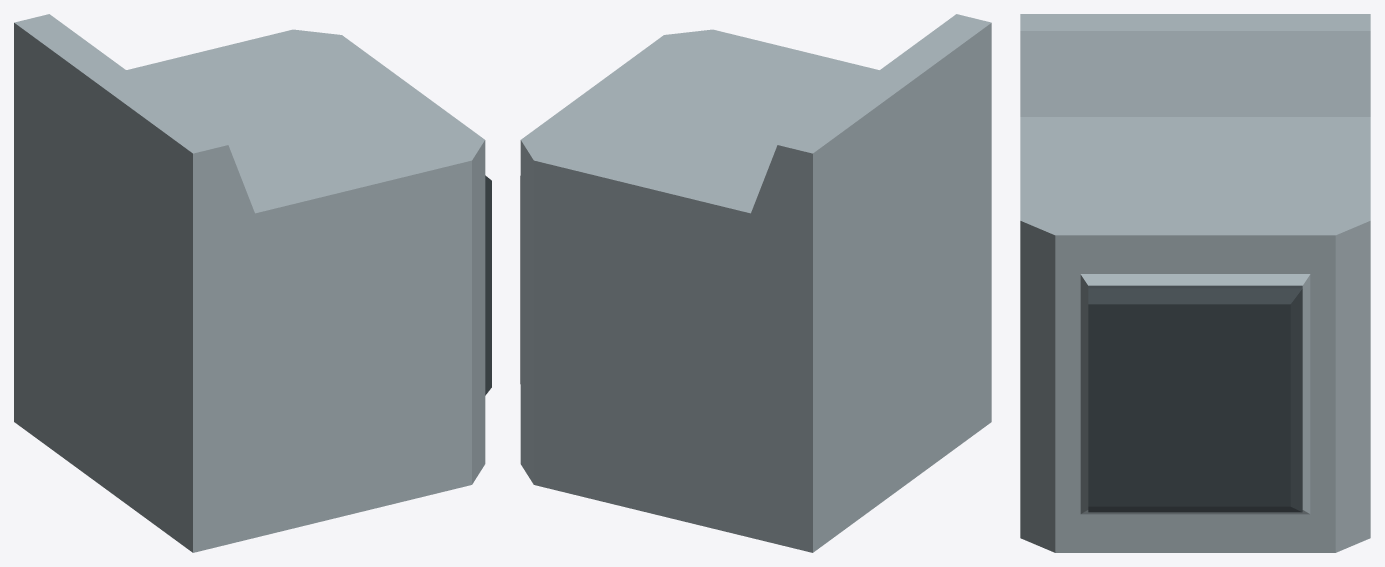
File: Dryer.fbx
3 renders of one model, left to right at view 1: azimuth 30°, elevation 25°; view 2: azimuth 150°, elevation 25°; view 3: azimuth 270°, elevation 25°, orthographic. The views are drawn at different scales.
Visible parts, largest first — view 1: polySurface9, polySurface10; view 2: polySurface9; view 3: polySurface9, polySurface10.
Boxes of the visible parts, x1,y1,x2,y2 form: polySurface9: [14, 14, 485, 552]; polySurface10: [485, 175, 491, 395]; polySurface9: [520, 14, 991, 552]; polySurface9: [1020, 14, 1370, 552]; polySurface10: [1088, 285, 1302, 512].
Size of the model in its own units: 114 by 130 by 106.
